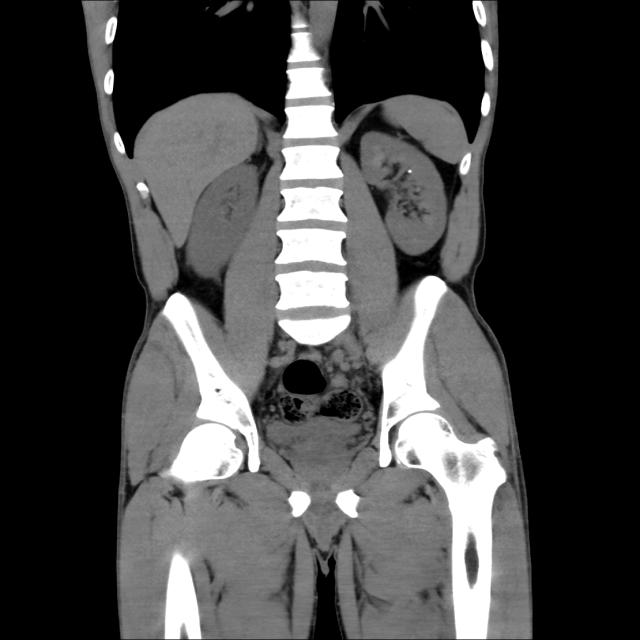kidneystone: (407, 169, 412, 173)
